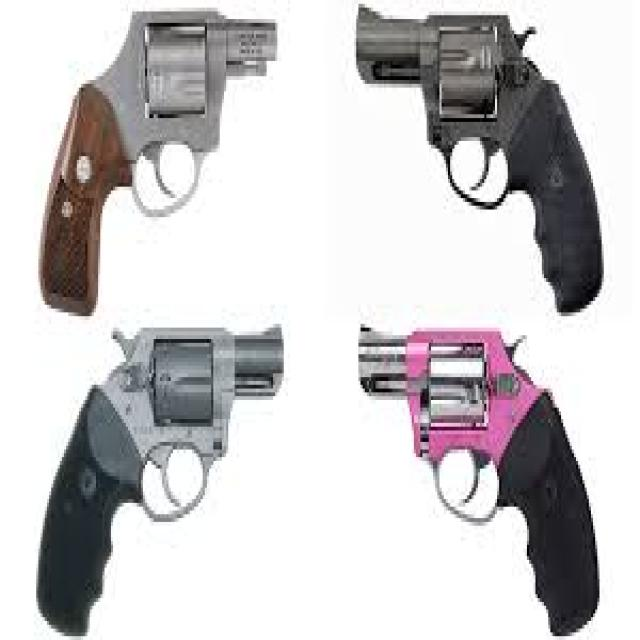Gun: (330, 4, 623, 360), (29, 0, 315, 354), (17, 297, 303, 640), (342, 313, 622, 632)
